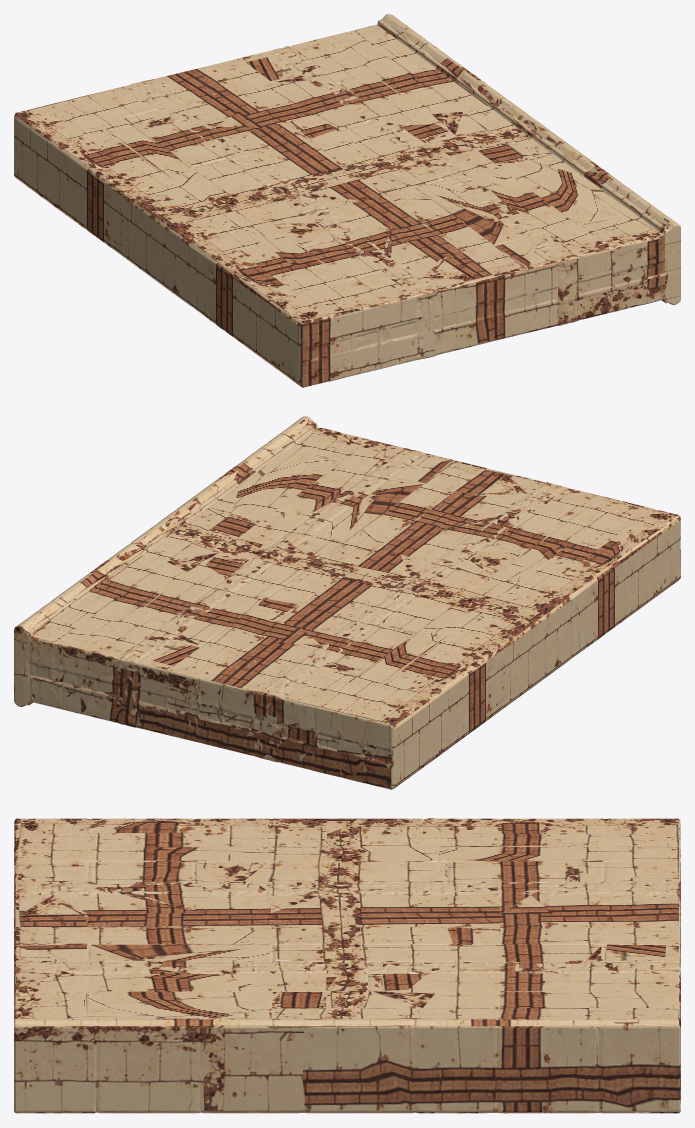
Rendered from FlatCeiling.glb.
3 views of the same model, one above another, from view 1: azimuth 30°, elevation 25°; view 2: azimuth 150°, elevation 25°; view 3: azimuth 270°, elevation 25° (orthographic). The views are drawn at different scales.
Visible parts, largest first — view 1: geometry_0.002; view 2: geometry_0.002; view 3: geometry_0.002.
Boxes of the visible parts, bbox=[...] form: geometry_0.002: bbox=[14, 14, 680, 387]; geometry_0.002: bbox=[14, 416, 680, 789]; geometry_0.002: bbox=[14, 818, 680, 1113].
Bounding box in the file's own units: 1.52 × 0.3078 × 1.99.
1 material, 1 textured.
